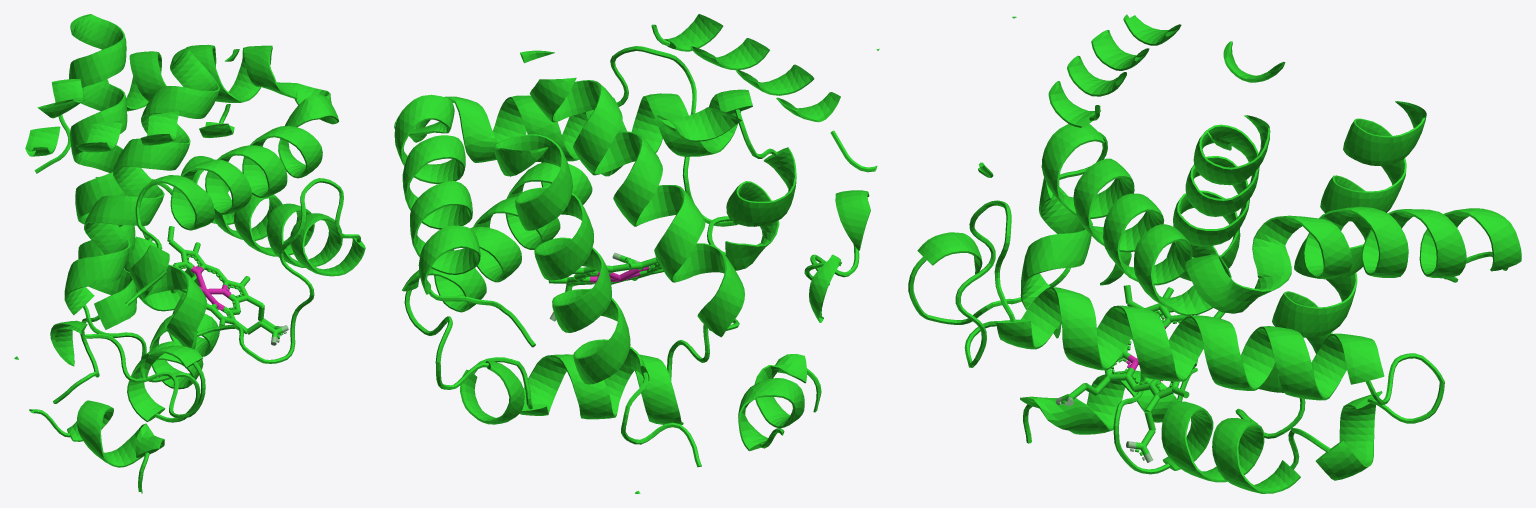
The model's file is 13na2-cut.fbx.
3 renders of one model, left to right at view 1: azimuth 30°, elevation 25°; view 2: azimuth 150°, elevation 25°; view 3: azimuth 270°, elevation 25°, orthographic. The views are drawn at different scales.
Visible parts, largest first — view 1: 1a3n2; view 2: 1a3n2; view 3: 1a3n2.
Boxes of the visible parts, x1,y1,x2,y2 form: 1a3n2: (14,14,365,493); 1a3n2: (394,14,879,493); 1a3n2: (908,14,1521,493).
Size of the model in its own units: 3520 by 3317 by 4555.
